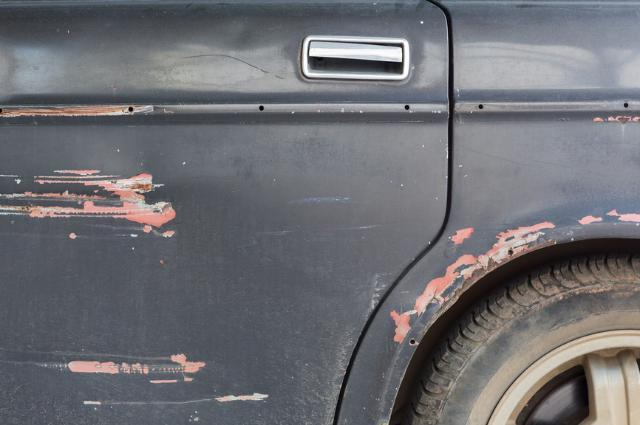Door: (2, 82, 368, 425)
Fender: (381, 178, 626, 357)
